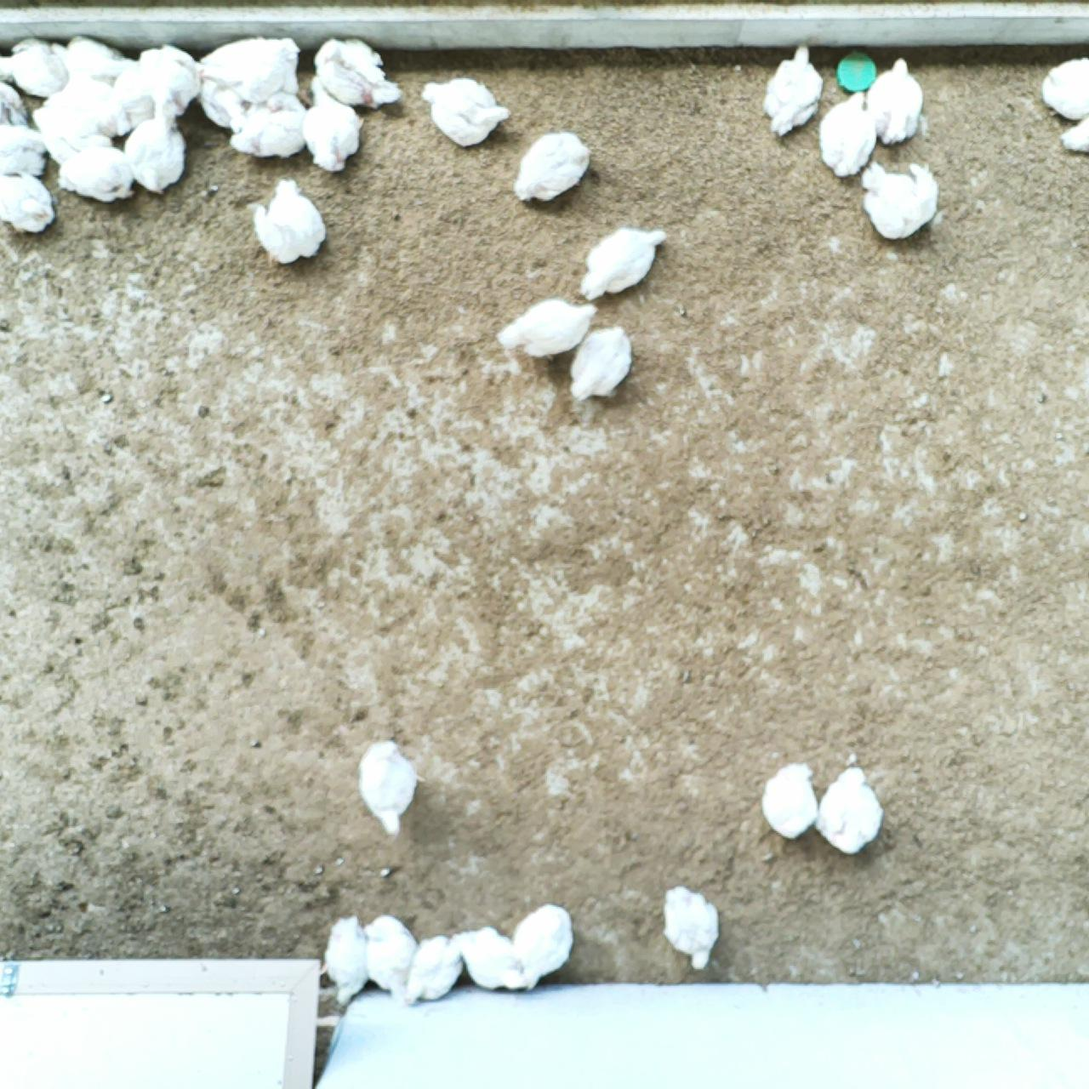chicken: (246, 175, 329, 266), (355, 735, 426, 838), (195, 34, 299, 103), (312, 33, 405, 108), (494, 297, 601, 362), (419, 77, 512, 151), (580, 226, 669, 303), (861, 159, 942, 242), (816, 764, 887, 857), (760, 38, 824, 141), (302, 73, 367, 174), (512, 128, 595, 205), (123, 103, 191, 195), (512, 901, 578, 993), (56, 133, 140, 205), (659, 882, 724, 975), (816, 86, 879, 180), (230, 92, 311, 162), (864, 56, 926, 147), (567, 323, 634, 405), (29, 104, 113, 167), (450, 925, 527, 993), (758, 760, 821, 843), (61, 65, 132, 137), (363, 914, 418, 1006), (317, 913, 371, 1006), (402, 935, 465, 1008), (0, 37, 73, 98), (49, 34, 132, 86), (114, 63, 175, 126), (0, 169, 56, 237), (139, 41, 207, 90), (1038, 55, 1089, 120), (0, 121, 49, 178), (199, 77, 248, 133), (0, 78, 31, 128), (1058, 117, 1089, 156)
